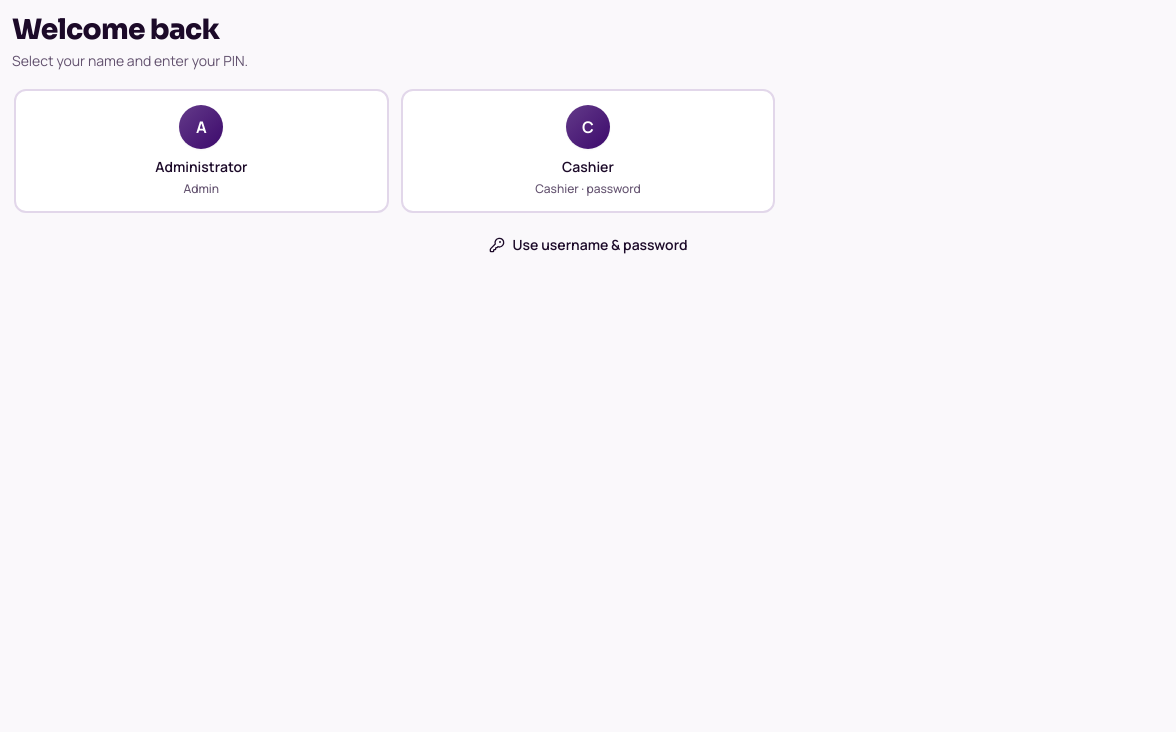
Test: the PIN panel › cards first; the keypad appears for the chosen user; the 4th digit signs in
The width and height of the screenshot is (1176, 732).
Later steps or results of the test are not shown.
Expected: the text "Select your name and enter your PIN." is shown, [12, 51, 248, 70]
What coordinates should you click on to do the following:
click the radio button labelled "A Administrator Admin"
I would click on:
 (201, 151)
Its box is [14, 89, 389, 213].
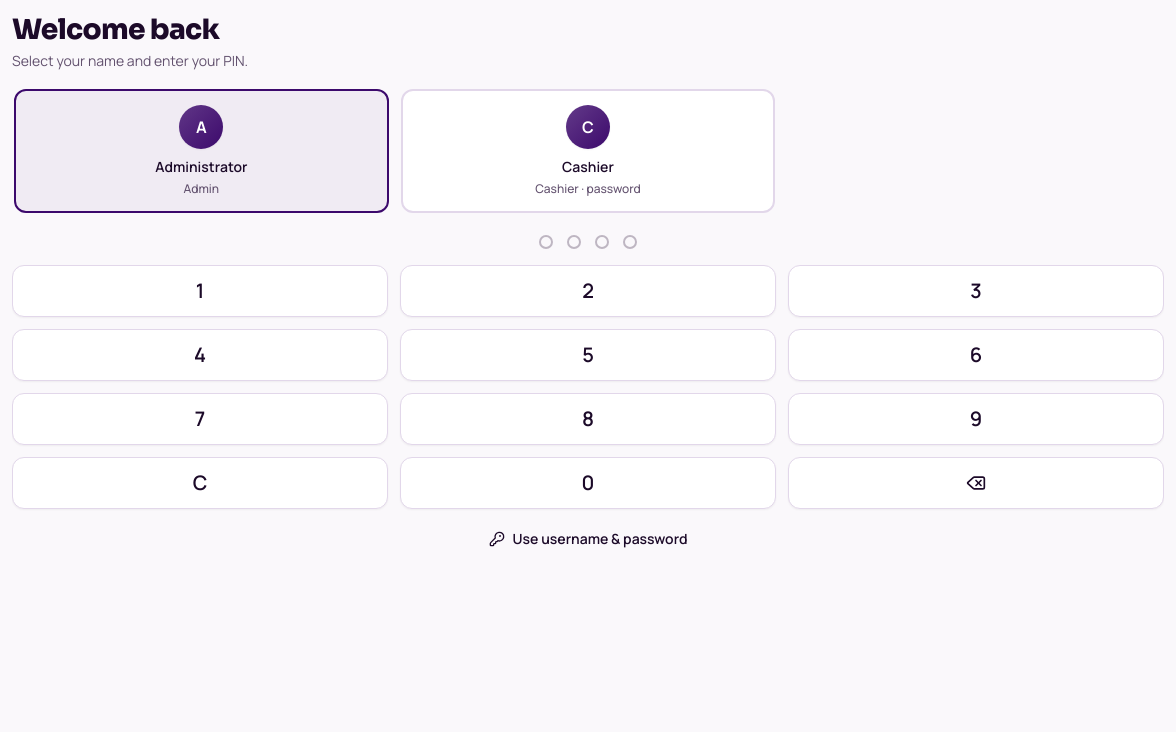
Expected: the radio button labelled "A Administrator Admin" is checked, [14, 89, 389, 213]
What coordinates should you click on to do the following:
click the button "1"
I would click on:
 (200, 291)
Its box is [12, 265, 388, 317].
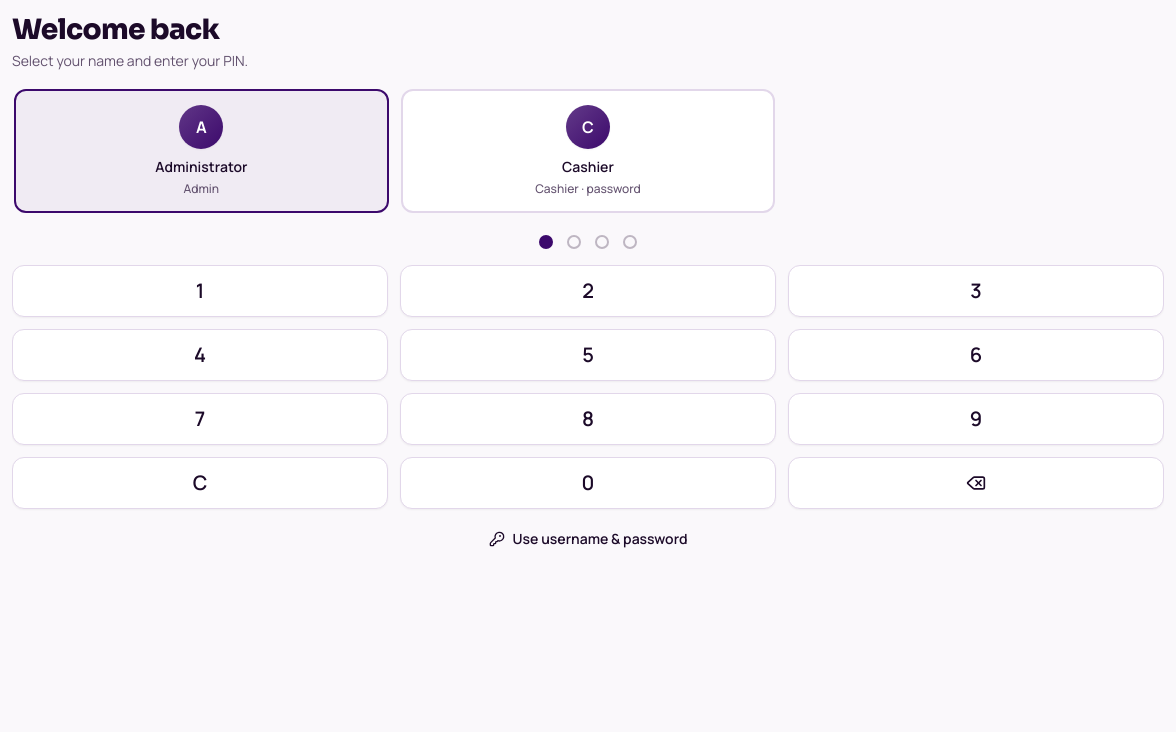
What coordinates should you click on to do the following:
click the button "2"
I would click on:
 (588, 291)
Its box is [400, 265, 776, 317].
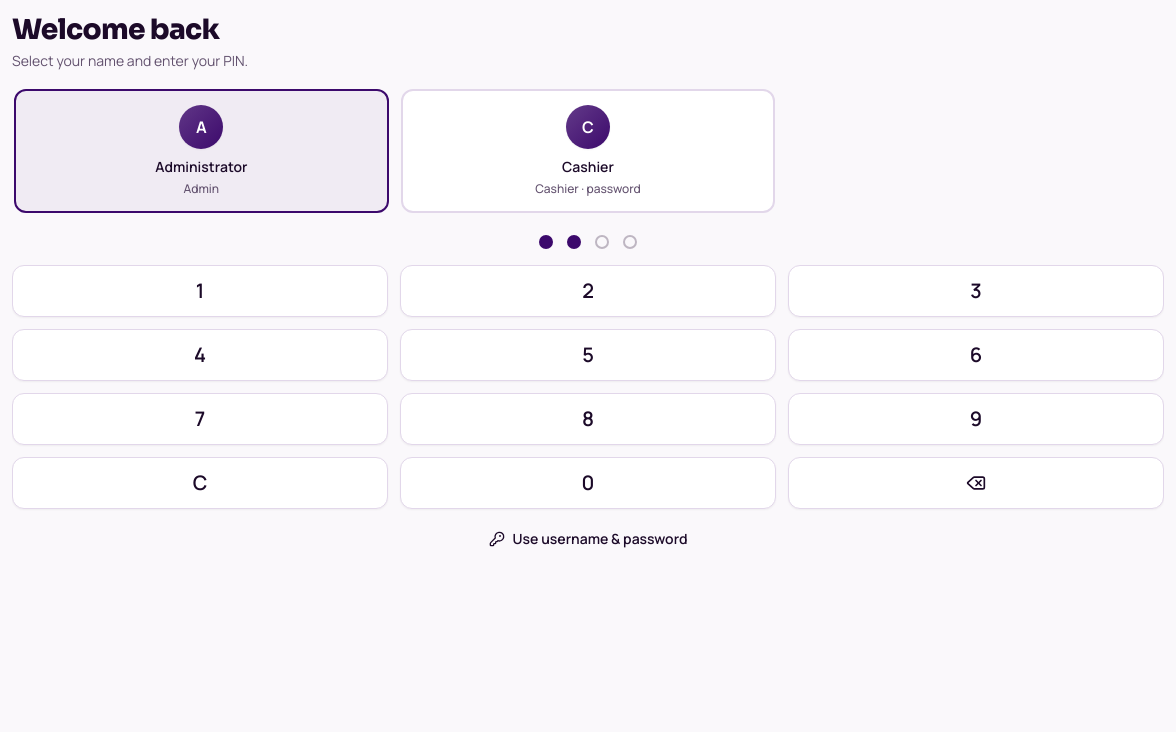
What coordinates should you click on to do the following:
click the button "3"
I would click on:
 (976, 291)
Its box is [788, 265, 1164, 317].
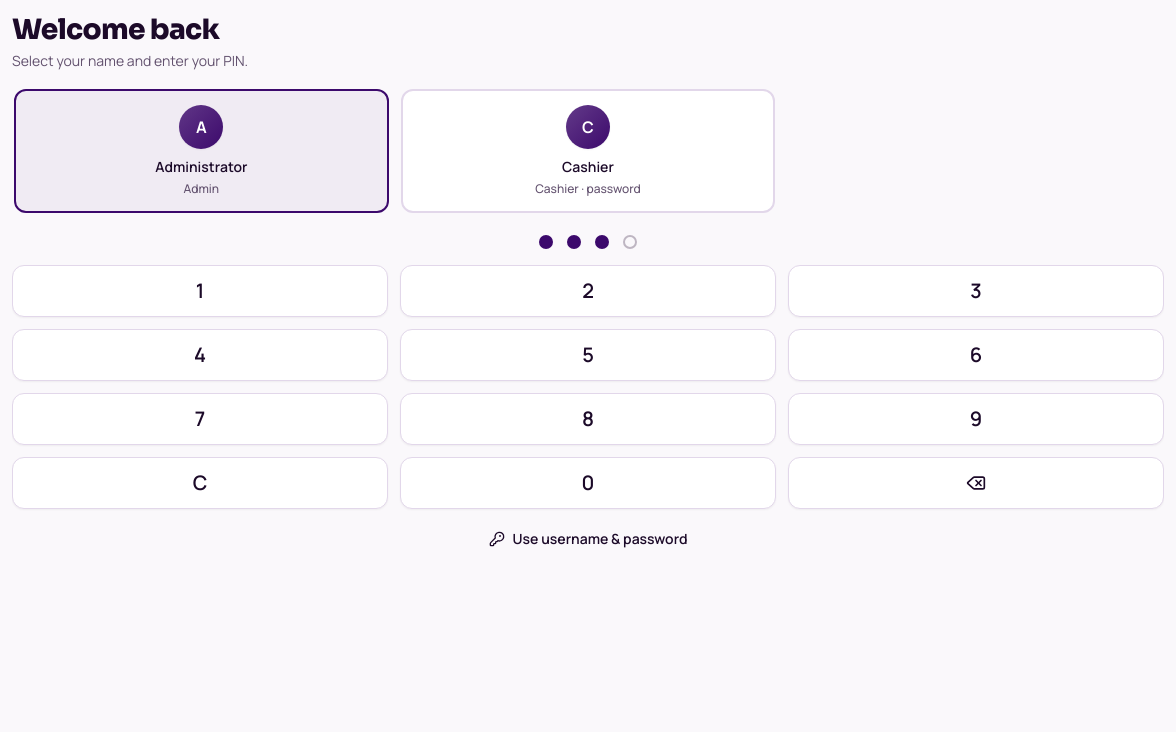
Expected: the message named "3 of 4 digits entered" has attribute data-pin-dots="3", [539, 235, 637, 249]
